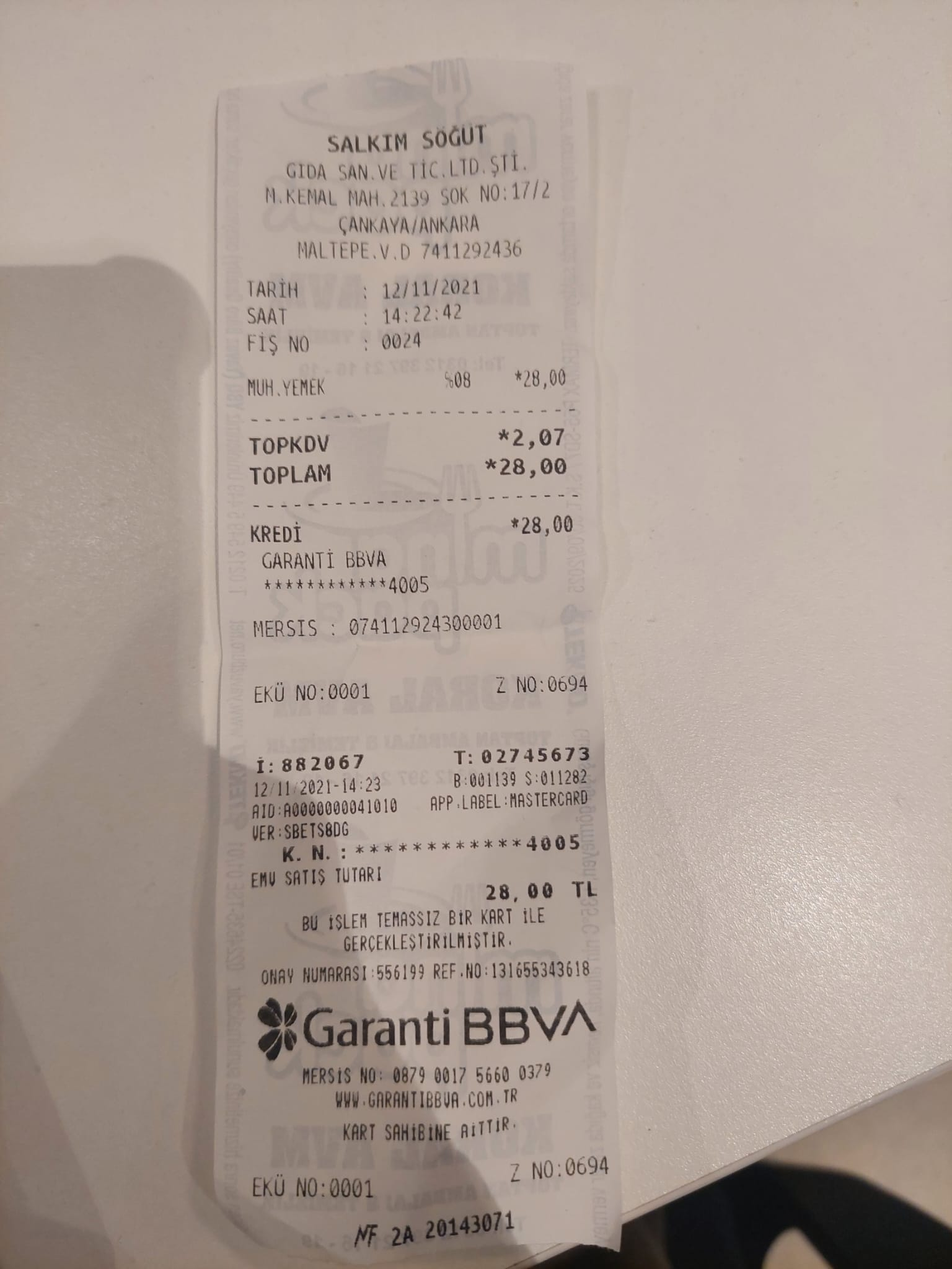date: (495, 450, 575, 488)
price: (378, 272, 489, 302)
workplace: (249, 113, 568, 242)
